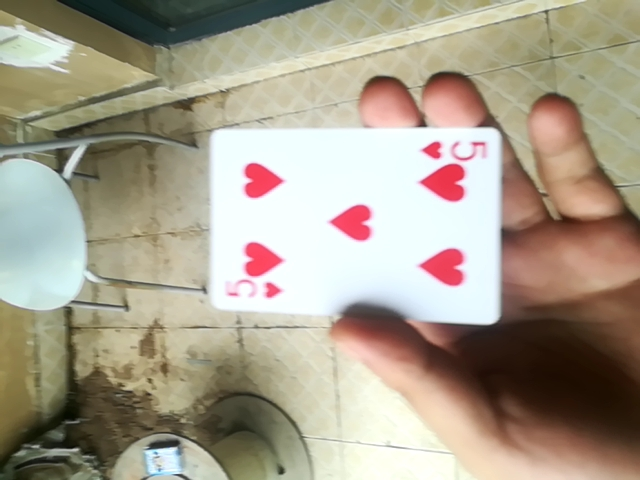hx 5: (205, 122, 501, 325)
